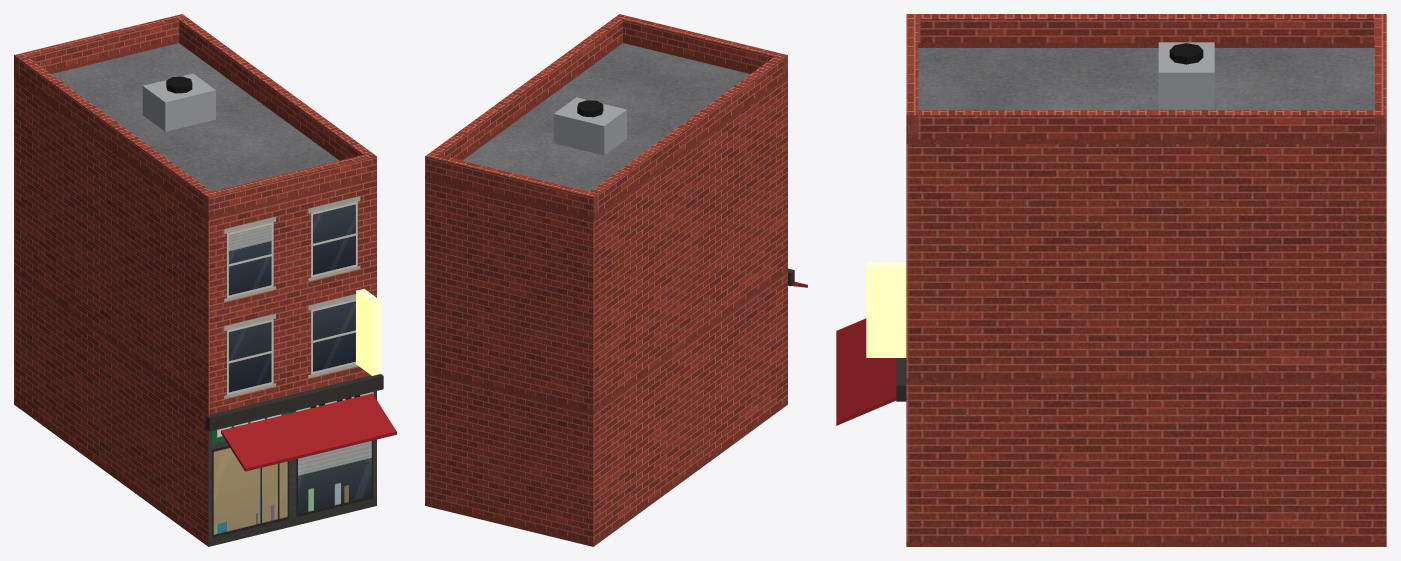
File: 057_bodega_midblock.glb
3 renders of one model, left to right at view 1: azimuth 30°, elevation 25°; view 2: azimuth 150°, elevation 25°; view 3: azimuth 270°, elevation 25°, orthographic. The views are drawn at different scales.
Parts seen in each view (by area): view 1: 057_bodega_midblock; view 2: 057_bodega_midblock; view 3: 057_bodega_midblock.
Boxes of the visible parts, bbox=[...] form: 057_bodega_midblock: bbox=[14, 14, 396, 546]; 057_bodega_midblock: bbox=[425, 14, 807, 546]; 057_bodega_midblock: bbox=[836, 14, 1386, 546].
Bounding box in the file's own units: 6.2 × 12.3 × 13.75.
Materials: 9 (4 with a texture image).
